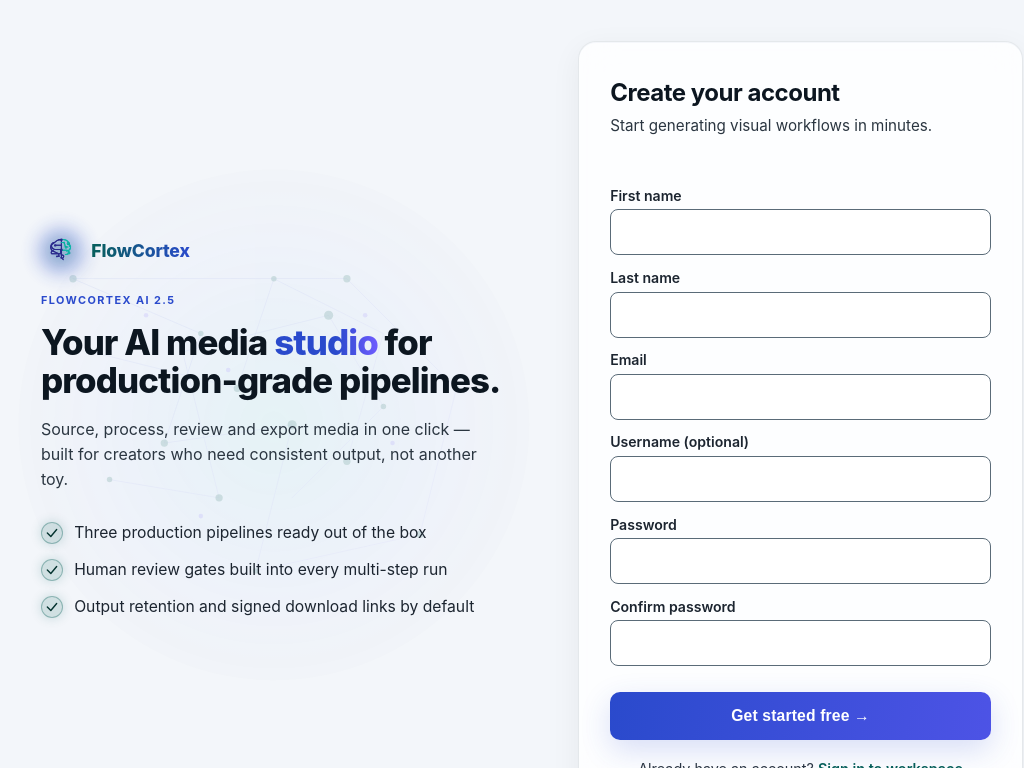
Scenario: RegisterPage › refuses the username ab at its field without sending a request
Type "An" into the field labelled "First name" at (801, 232), box [610, 210, 991, 256]
Type "Tran" into the field labelled "Last name" at (801, 315), box [610, 292, 991, 338]
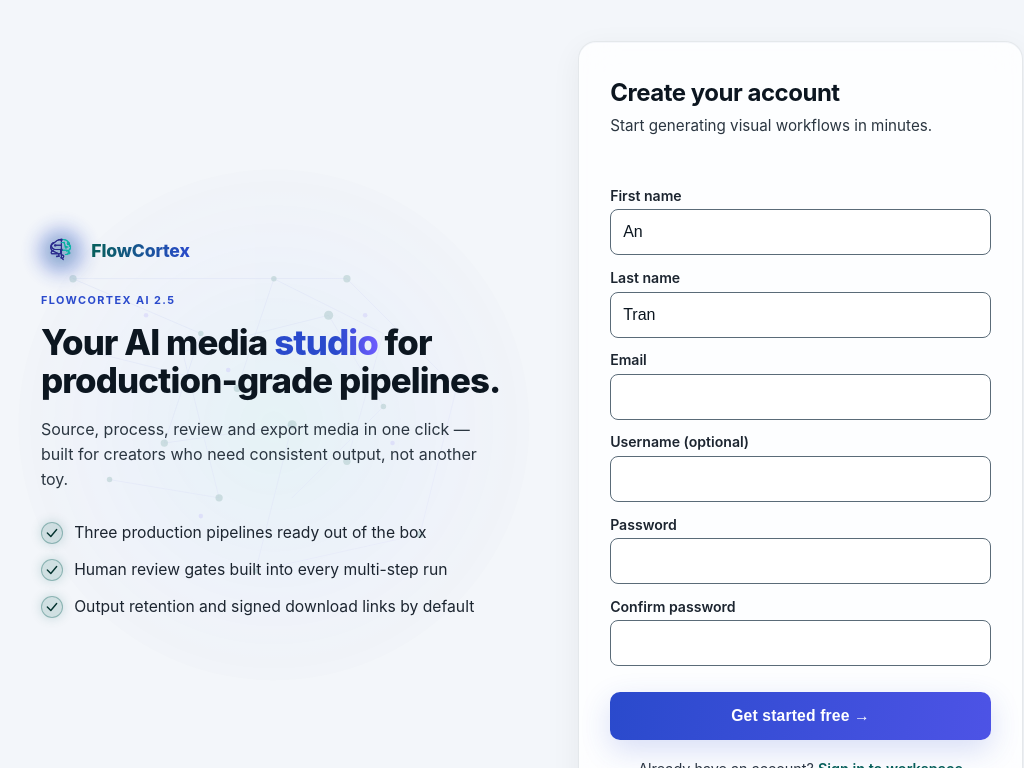
Type "an@example.com" into the field labelled "Email" at (801, 397), box [610, 374, 991, 420]
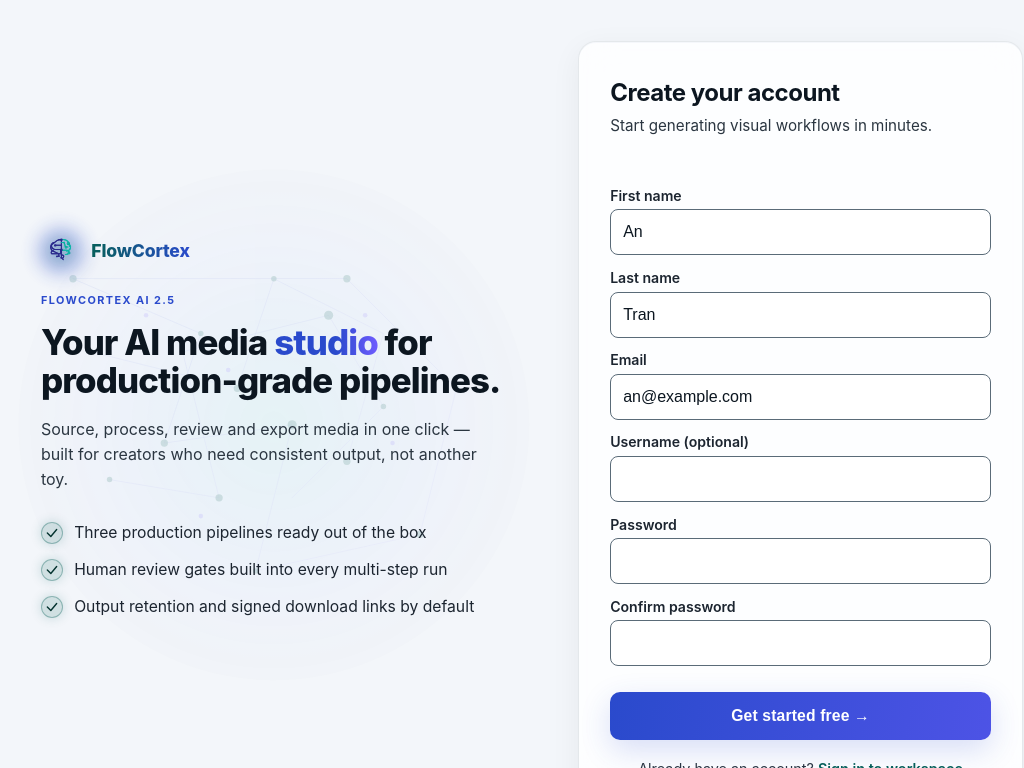
Type "ab" into the field labelled "Username (optional)" at (801, 479), box [610, 456, 991, 502]
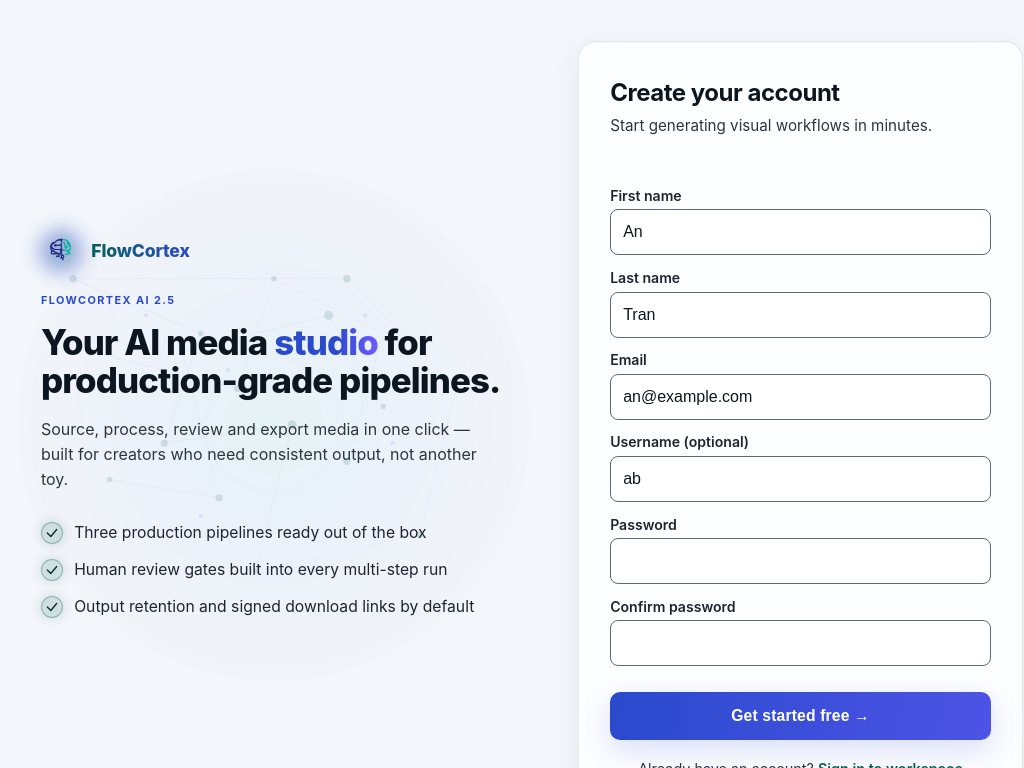
Type "Secret123" into the password field labelled "Password" at (801, 561), box [610, 538, 991, 584]
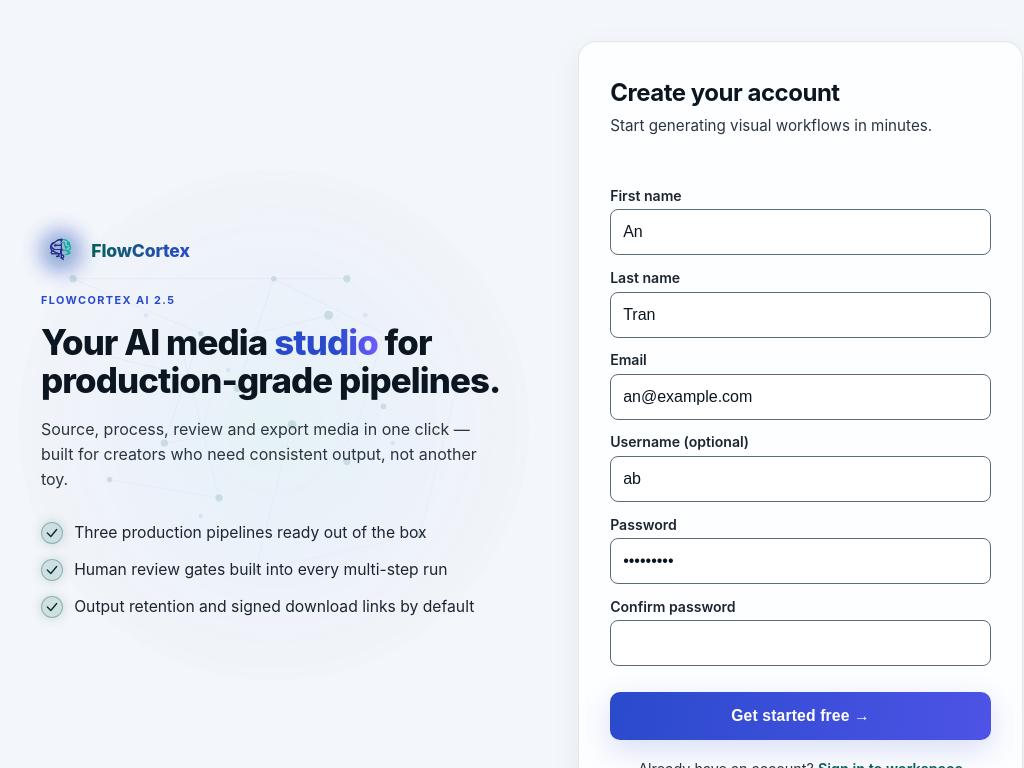
Type "Secret123" into the password field labelled "Confirm password" at (801, 643), box [610, 620, 991, 666]
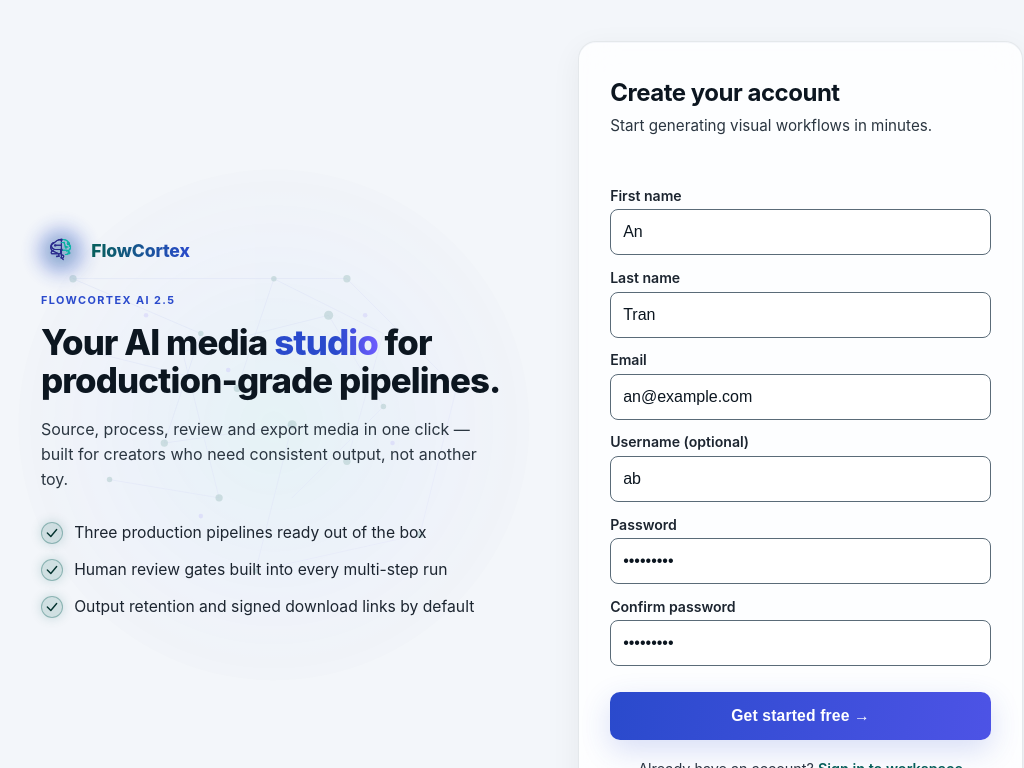
Click the button "Get started free →" at (801, 716), box [610, 692, 991, 740]
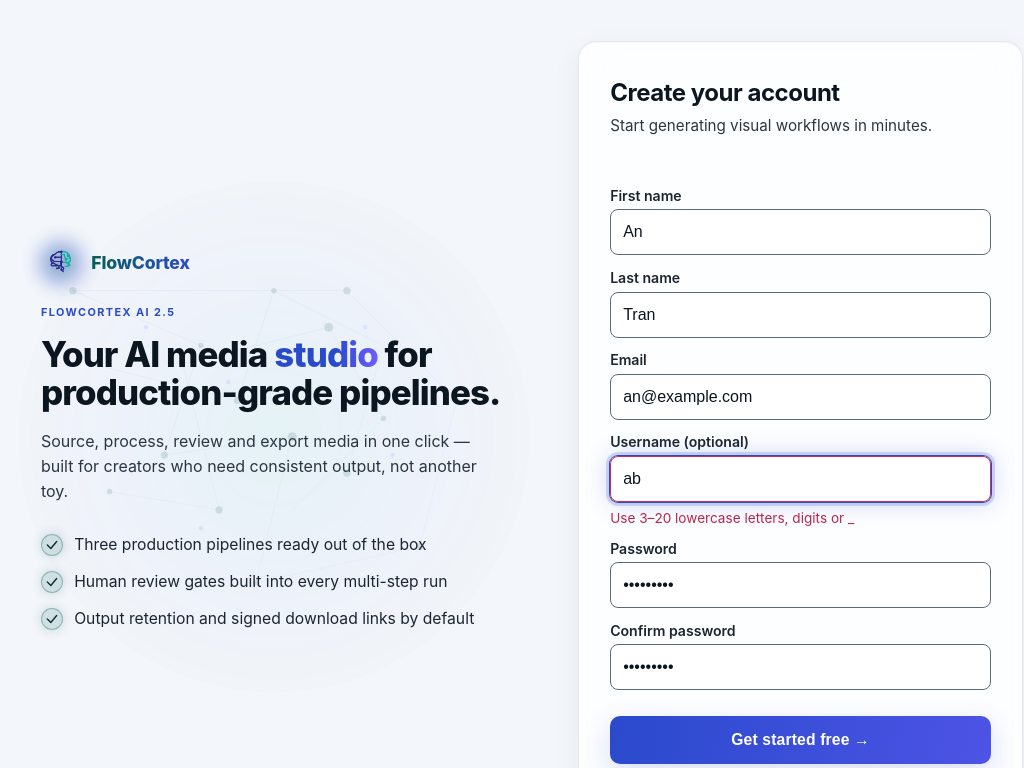
Now the text "Use 3–20 lowercase letters, digits or _" is shown, box [610, 510, 854, 526]
